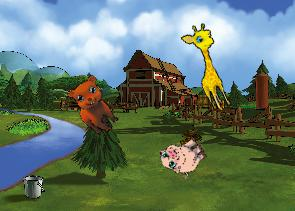bear: (60, 70, 130, 139)
giraffe: (178, 20, 242, 114)
pig: (155, 128, 211, 183)
